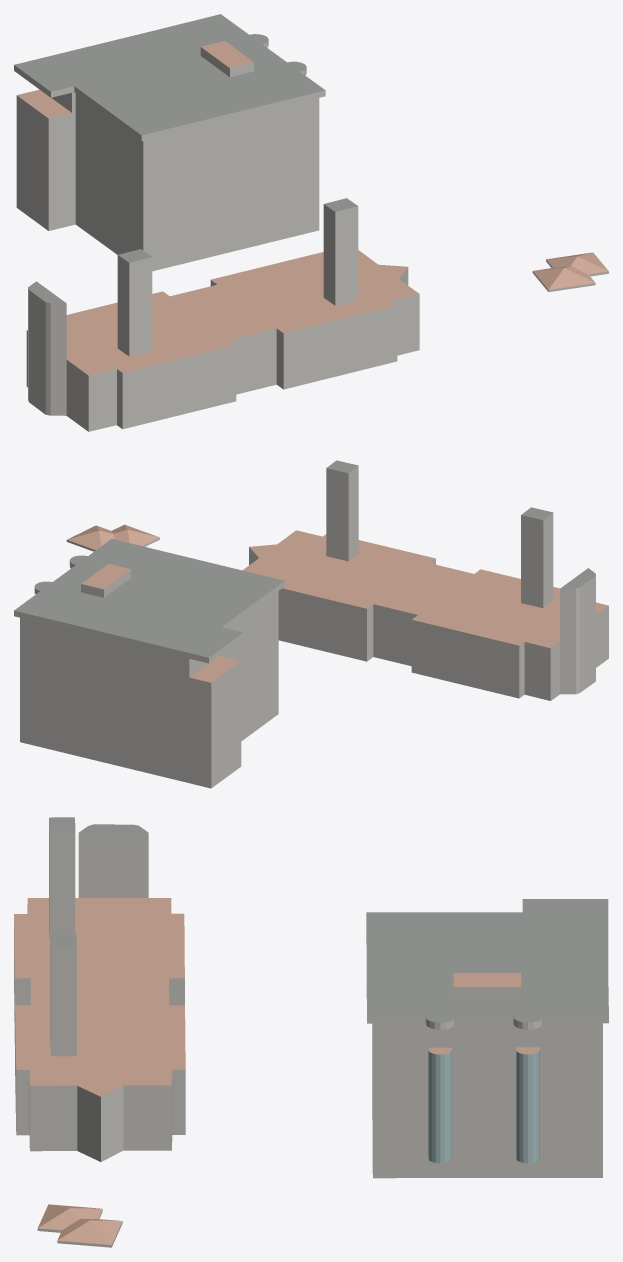
File: gridID_37.dae
3 views of the same model, one above another, from view 1: azimuth 30°, elevation 25°; view 2: azimuth 150°, elevation 25°; view 3: azimuth 270°, elevation 25° (orthographic). The views are drawn at different scales.
Visible parts, largest first — view 1: model_gridID_37_w389193352_002, model_gridID_37_w382440373, model_gridID_37_w389193352_001, model_gridID_37_w383050666; view 2: model_gridID_37_w389193352_002, model_gridID_37_w382440373, model_gridID_37_w389193352_001, model_gridID_37_w383050666; view 3: model_gridID_37_w389193352_002, model_gridID_37_w382440373, model_gridID_37_w383050666, model_gridID_37_w389193352_001.
Part boxes in pixels (x1,y1,x2,y2): model_gridID_37_w389193352_002: [37, 14, 325, 271]; model_gridID_37_w382440373: [26, 198, 419, 431]; model_gridID_37_w389193352_001: [14, 59, 74, 230]; model_gridID_37_w383050666: [532, 252, 608, 292]; model_gridID_37_w389193352_002: [14, 539, 284, 782]; model_gridID_37_w382440373: [242, 460, 608, 700]; model_gridID_37_w389193352_001: [187, 627, 243, 788]; model_gridID_37_w383050666: [66, 524, 159, 551]; model_gridID_37_w389193352_002: [366, 912, 608, 1178]; model_gridID_37_w382440373: [14, 817, 185, 1161]; model_gridID_37_w383050666: [37, 1204, 122, 1247]; model_gridID_37_w389193352_001: [522, 899, 608, 912].
Bounding box in the file's own units: 77.49 × 61.96 × 20.
